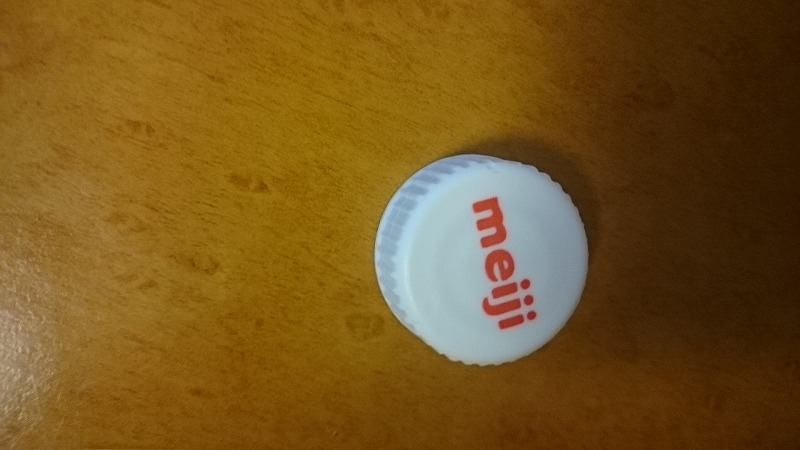B: (367, 146, 603, 381)
